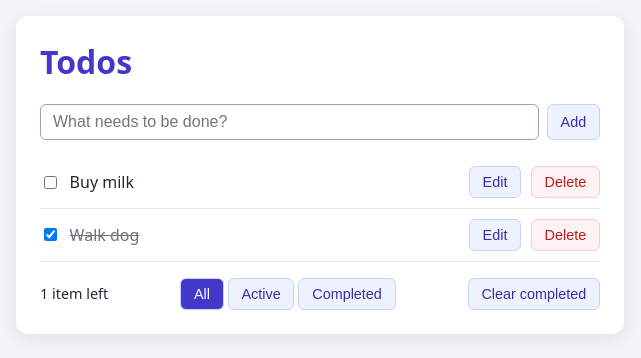
Scenario: TodoApp › edits a title inline
Double-click the text "Buy milk".
double_click(102, 182)  # box [70,171,134,193]
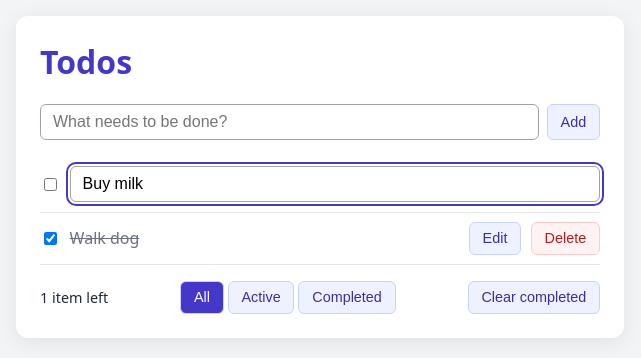
Replace the text in the field named "Edit title of \"Buy milk\"" with "Buy eggs" at (335,184), box [70,166,600,202]
Then press Enter
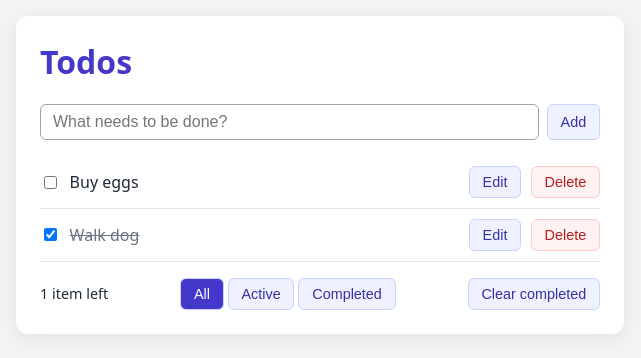
Result: the text "Buy eggs" is shown at [70,171,139,193]
